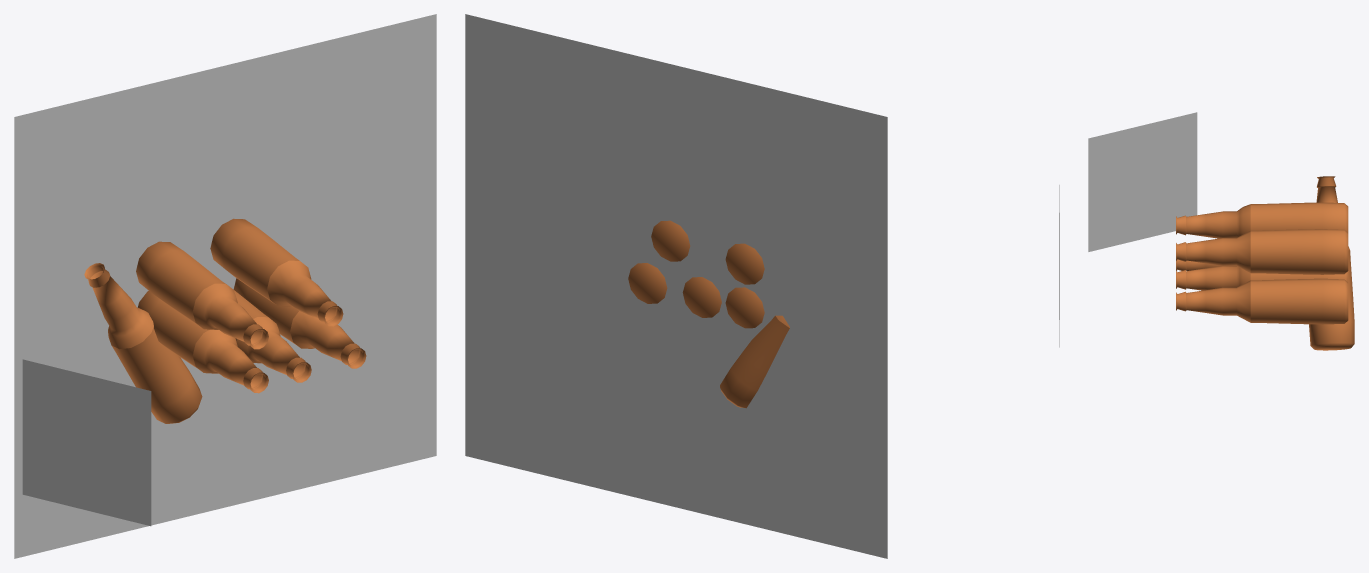
Rendered from empty_beer_bottle.fbx.
The picture shows the model from 3 angles, left to right: view 1: azimuth 30°, elevation 25°; view 2: azimuth 150°, elevation 25°; view 3: azimuth 270°, elevation 25°; orthographic projection. The views are drawn at different scales.
Parts seen in each view (by area): view 1: Plane.001, Plane, Bottle.005, Bottle.004, Bottle.002, Bottle.003, Bottle.001, Bottle; view 2: Plane.001, Bottle.005, Bottle.003, Bottle.004, Bottle.002, Bottle.001, Bottle; view 3: Plane, Bottle.001, Bottle.002, Bottle.004, Bottle, Bottle.005.
Part boxes in pixels (<box>): Plane.001: <box>14,14,436,558</box>; Plane: <box>22,359,151,526</box>; Bottle.005: <box>84,263,202,423</box>; Bottle.004: <box>136,241,268,349</box>; Bottle.002: <box>210,218,343,326</box>; Bottle.003: <box>138,291,268,393</box>; Bottle.001: <box>233,278,366,368</box>; Bottle: <box>225,283,311,382</box>; Plane.001: <box>465,14,887,558</box>; Bottle.005: <box>720,315,789,408</box>; Bottle.003: <box>725,287,764,328</box>; Bottle.004: <box>725,243,764,284</box>; Bottle.002: <box>651,220,690,261</box>; Bottle.001: <box>628,263,667,303</box>; Bottle: <box>682,277,721,317</box>; Plane: <box>1088,112,1197,251</box>; Bottle.001: <box>1176,278,1348,324</box>; Bottle.002: <box>1176,229,1348,274</box>; Bottle.004: <box>1176,202,1348,238</box>; Bottle: <box>1176,266,1348,290</box>; Bottle.005: <box>1309,176,1354,350</box>.
Bounding box in the file's own units: 27.75 × 23.26 × 15.12.
